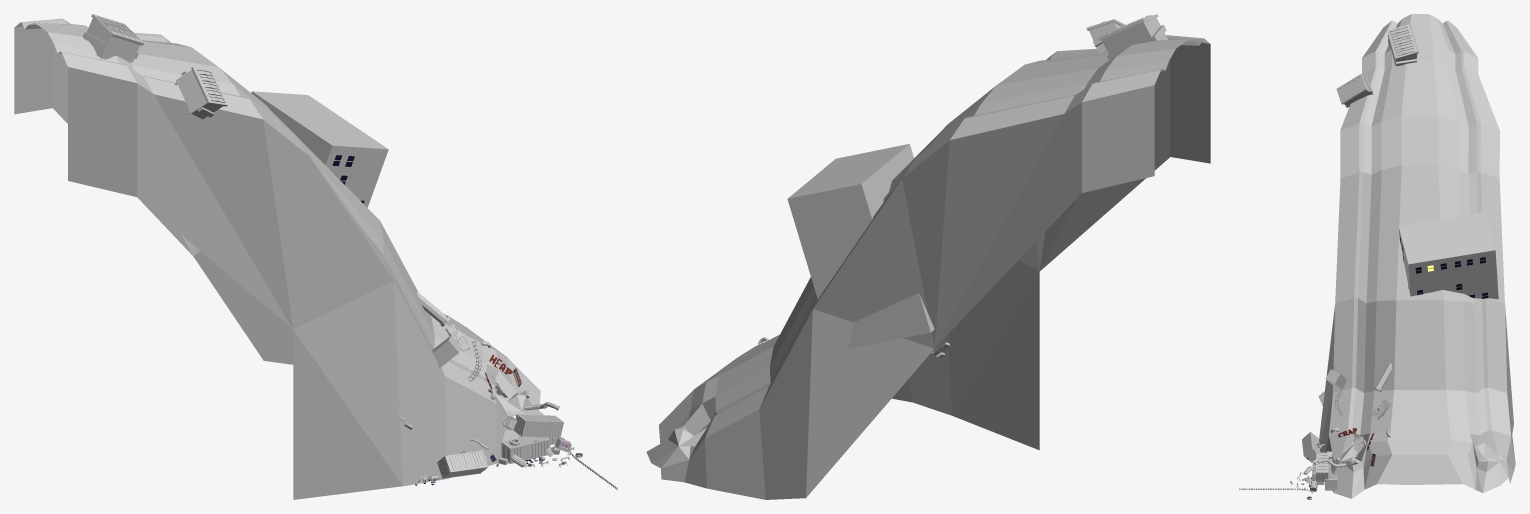
Rendered from EXT_DirtBottom_Junkslide.fbx.
3 views of the same model, side by side, from view 1: azimuth 30°, elevation 25°; view 2: azimuth 150°, elevation 25°; view 3: azimuth 270°, elevation 25° (orthographic). The views are drawn at different scales.
Visible parts, largest first — view 1: JunkSlide.001, Building.025, Dumpster.002, Dumpster.001, ShippingCrate01.131, ShippingCrate01.129, ShippingCrate01.128; view 2: JunkSlide.001, Building.025, Dumpster.002; view 3: JunkSlide.001, Building.025, Dumpster.002, Dumpster.001, ShippingCrate01.131, ShippingCrate01.129.
Part boxes in pixels (x1,y1,x2,y2): JunkSlide.001: (14,18,559,499); Building.025: (251,91,388,207); Dumpster.002: (82,14,144,62); Dumpster.001: (174,67,227,119); ShippingCrate01.131: (437,450,487,478); ShippingCrate01.129: (513,414,563,437); ShippingCrate01.128: (501,436,550,463); JunkSlide.001: (646,35,1210,499); Building.025: (787,144,934,349); Dumpster.002: (1098,14,1167,59); JunkSlide.001: (1315,14,1515,498); Building.025: (1398,212,1498,299); Dumpster.002: (1387,23,1418,66); Dumpster.001: (1336,74,1373,107); ShippingCrate01.131: (1302,432,1320,462); ShippingCrate01.129: (1316,452,1328,481).
Bounding box in the file's own units: 28688 × 28648 × 21315.
